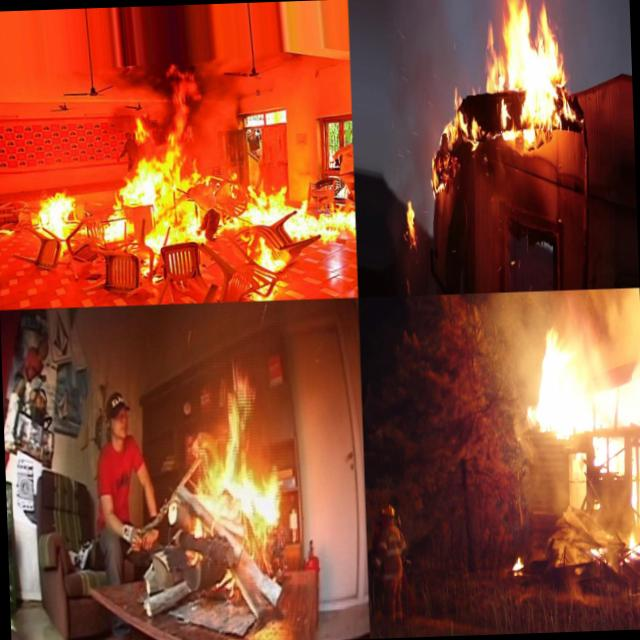fire: (521, 297, 640, 562), (167, 396, 291, 570), (480, 0, 574, 146), (136, 83, 202, 246), (242, 183, 356, 250), (423, 85, 485, 192), (33, 192, 77, 244), (100, 200, 136, 243), (252, 234, 284, 276), (400, 188, 420, 250), (499, 542, 533, 578), (247, 282, 279, 302), (631, 559, 640, 617)
